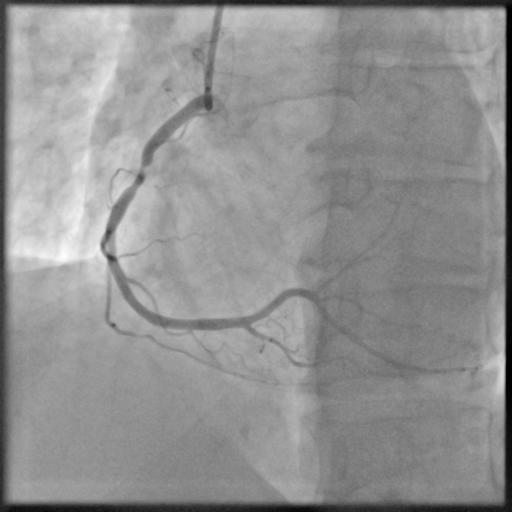Stenosis: (134, 159, 150, 183)
